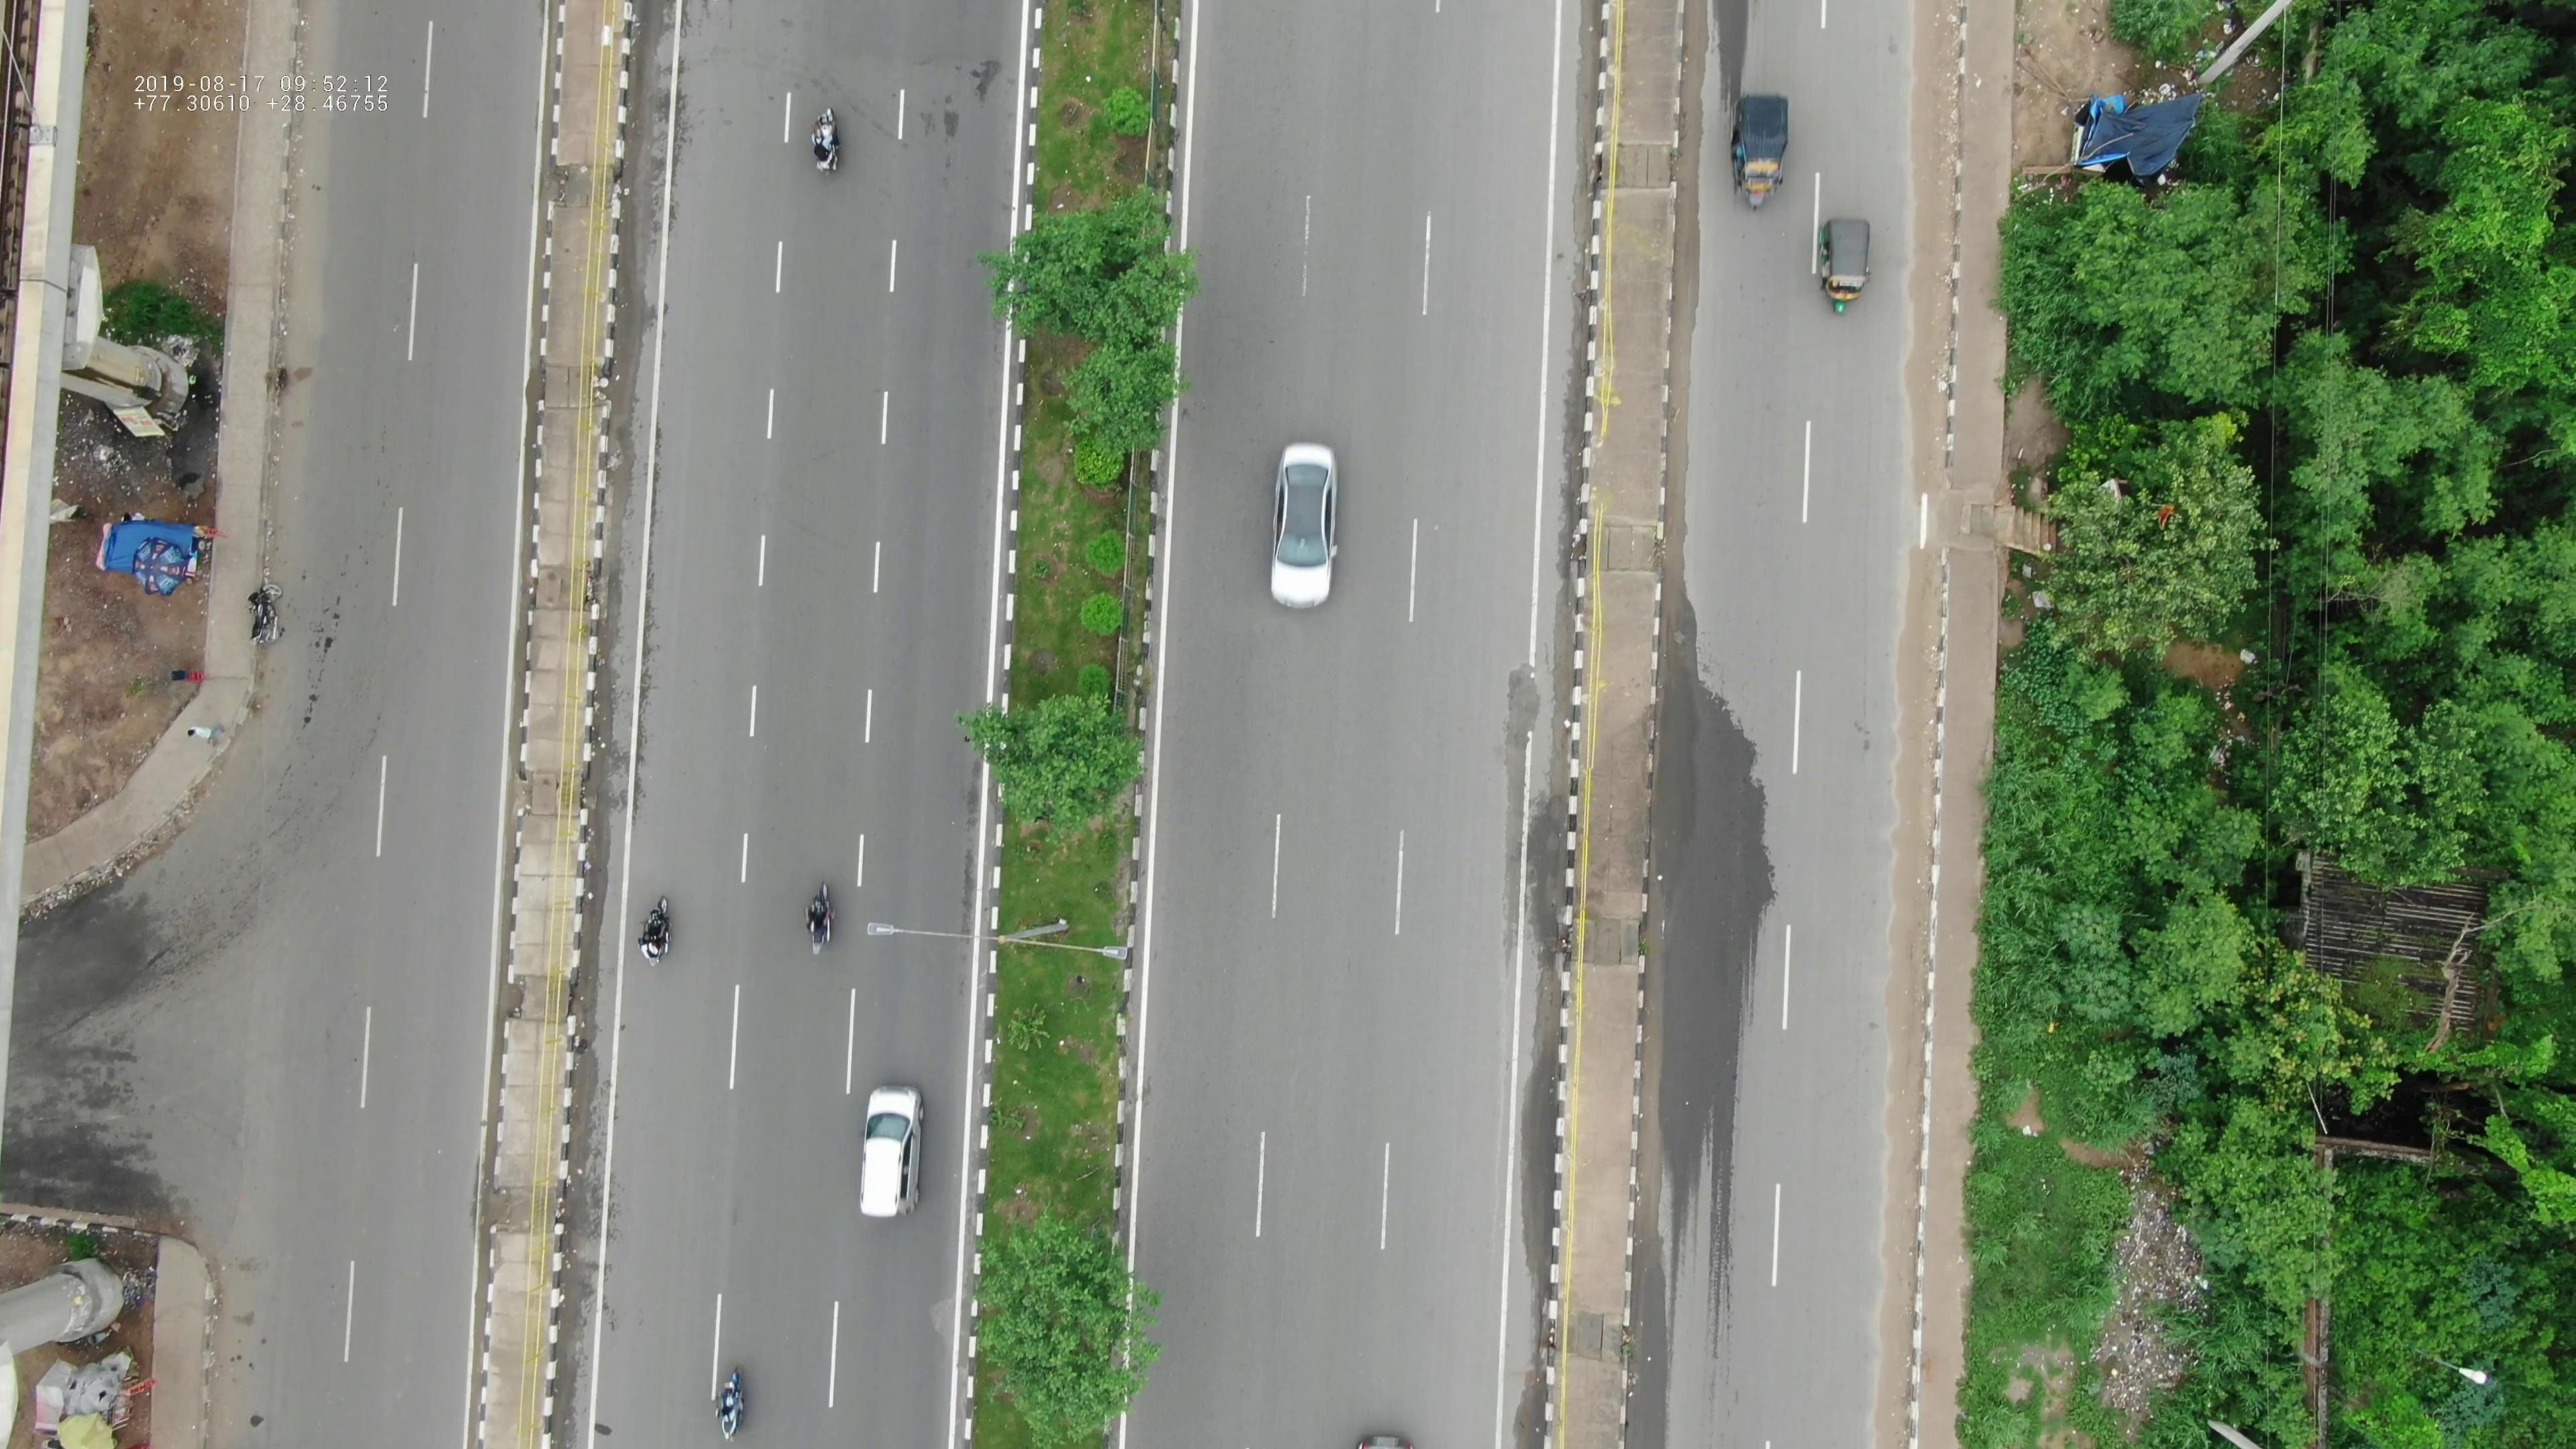Muddy_road: (1902, 180, 1955, 485), (1902, 0, 1974, 170), (1888, 548, 1943, 754), (1884, 1207, 1927, 1447), (1888, 759, 1937, 957), (1890, 961, 1928, 1200)
